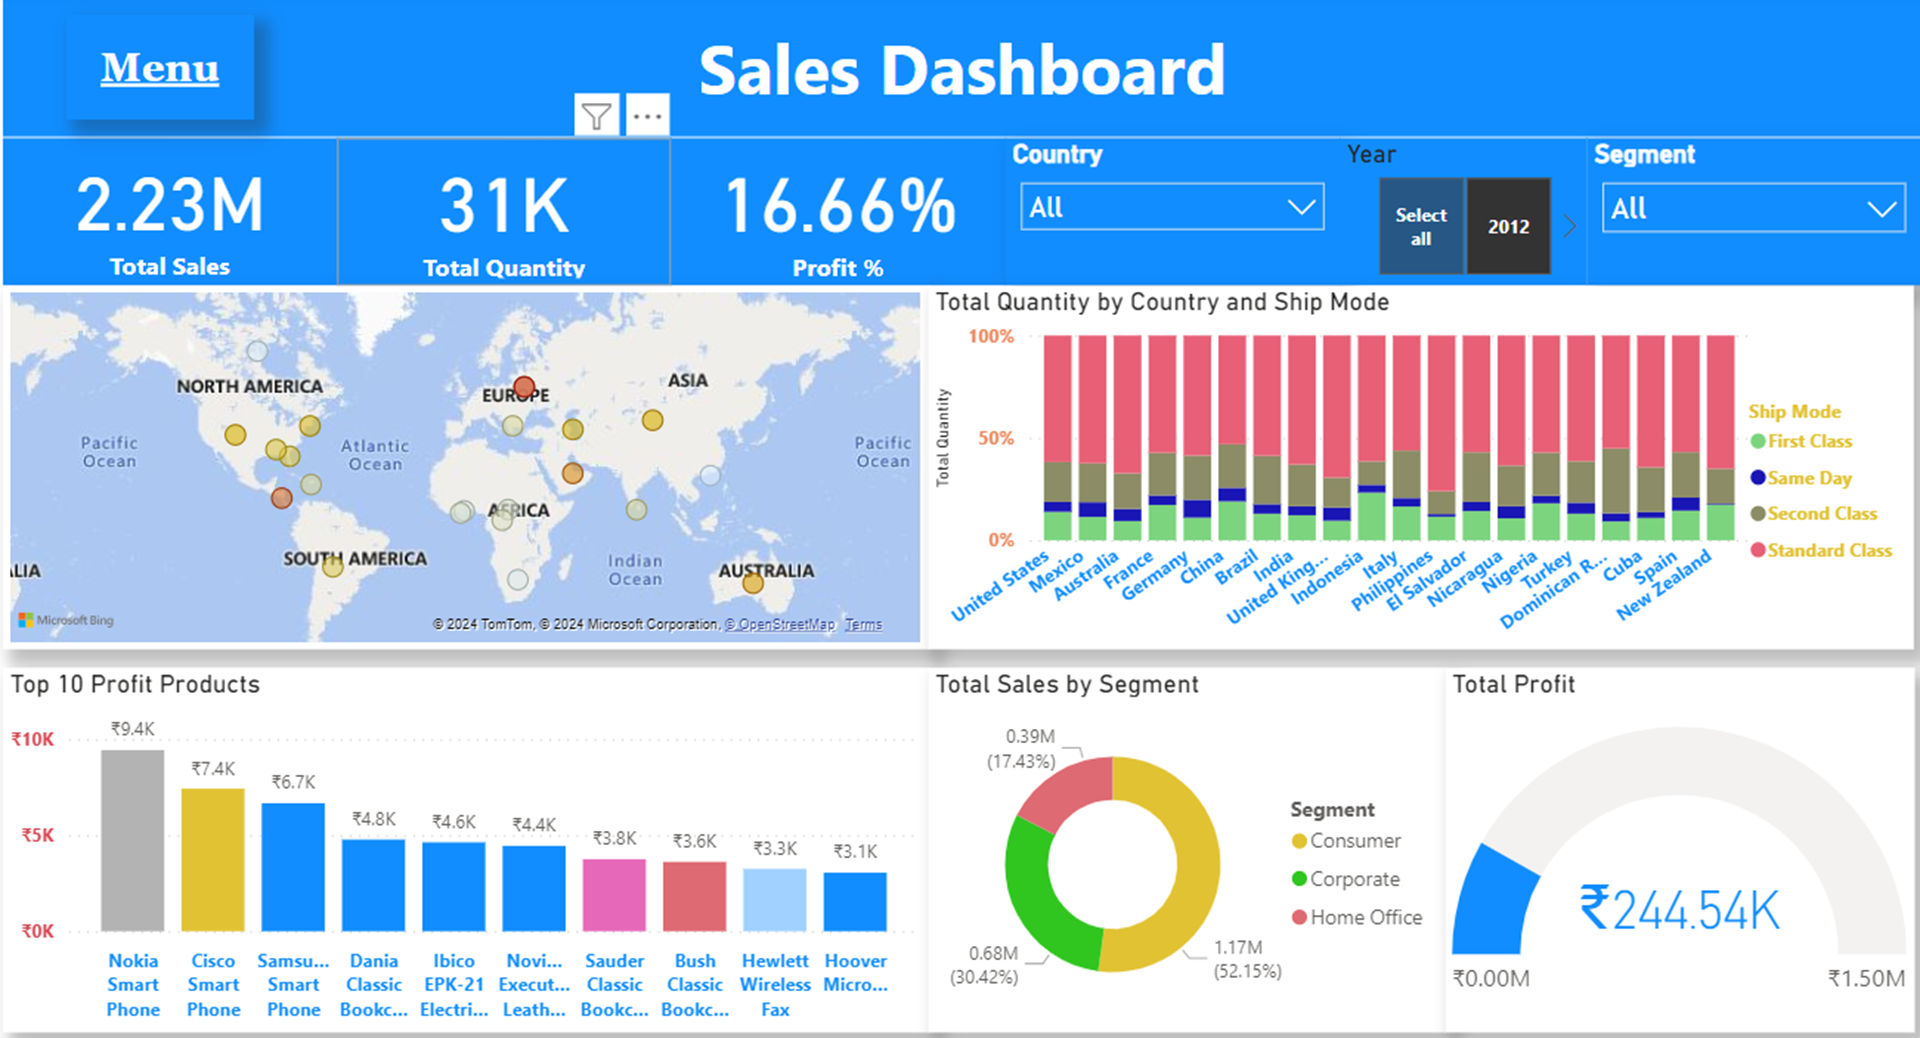

This screenshot's page, from the dashboard's own definition file:
{"tool":"powerbi","page":{"name":"Dashboard","canvas":[1280,720],"ordinal":0},"visuals":[{"type":"shape","box":[9.6,0,1271,94.6],"z":0},{"type":"card","fields":{"Values":["Sales.Total Sales"]},"box":[9.8,95.3,221.3,97.8],"z":1000},{"type":"card","fields":{"Values":["Sales.Total Quantity"]},"box":[230.9,95.1,221.3,97.8],"z":2000},{"type":"card","fields":{"Values":["Sales.Profit %"]},"box":[452.2,95.1,221.3,97.8],"z":3000},{"type":"slicer","title":"Country","fields":{"Values":["Sales.Country"]},"box":[673.5,95.1,221.3,97.8],"z":4000},{"type":"slicer","title":"Segment","fields":{"Values":["Sales.Segment"]},"box":[1059.2,95.1,221.3,97.8],"z":5000},{"type":"slicer","title":"Year","fields":{"Values":["Sales.Ship Date.Variation.Date Hierarchy.Year"]},"box":[894.9,95.1,164.3,97.8],"z":6000},{"type":"map","fields":{"Category":["Sales.Region"]},"box":[9.8,193.1,612.4,240.8],"z":7000},{"type":"hundredPercentStackedColumnChart","fields":{"Y":["Sales.Total Quantity"],"Category":["Sales.Country"],"Series":["Sales.Ship Mode"]},"box":[622.2,193.1,652.8,240.8],"z":8000},{"type":"clusteredColumnChart","title":"Top 10 Profit Products","fields":{"Category":["Sales.Product Name"],"Y":["Sales.Total Profit"]},"box":[9.5,446.8,612.4,241.7],"z":9000},{"type":"donutChart","fields":{"Category":["Sales.Segment"],"Y":["Sales.Total Sales"]},"box":[621.9,446.8,342.2,241.7],"z":10000},{"type":"gauge","fields":{"Y":["Sales.Total Profit"]},"box":[964.1,446.8,311,241.7],"z":11000},{"type":"actionButton","title":"Menu","box":[51.6,13.6,124.9,69.3],"z":12000}]}

Visuals, with their boxes on the page's 1280x720 design canvas (x1, y1, x2, y2). These are canvas units, not pixel positions in the 1920x1038 screenshot, which may show the page scaled, cropped or inside an application window:
shape: (10,0,1281,95)
card - Sales.Total Sales: (10,95,231,193)
card - Sales.Total Quantity: (231,95,452,193)
card - Sales.Profit %: (452,95,674,193)
"Country" slicer: (674,95,895,193)
"Segment" slicer: (1059,95,1280,193)
"Year" slicer: (895,95,1059,193)
map - Sales.Region: (10,193,622,434)
hundredPercentStackedColumnChart - Sales.Total Quantity x Sales.Country: (622,193,1275,434)
"Top 10 Profit Products" clusteredColumnChart: (10,447,622,688)
donutChart - Sales.Segment x Sales.Total Sales: (622,447,964,688)
gauge - Sales.Total Profit: (964,447,1275,688)
"Menu" actionButton: (52,14,176,83)
